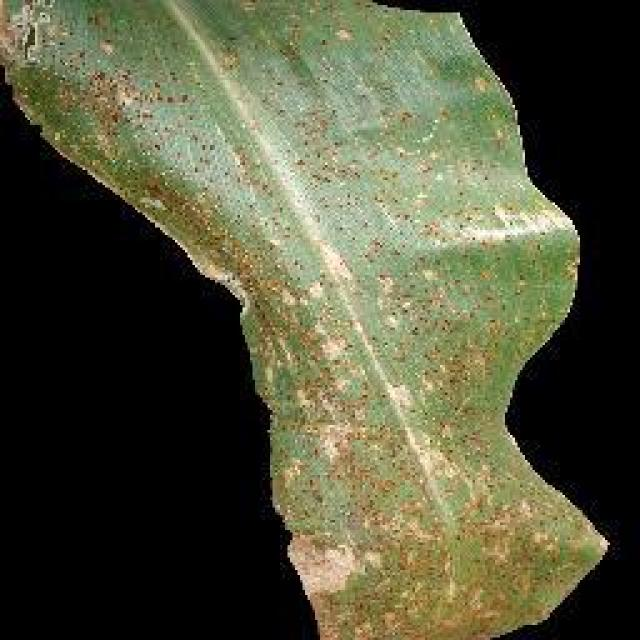Corn Common Rust: (107, 93, 570, 627)
